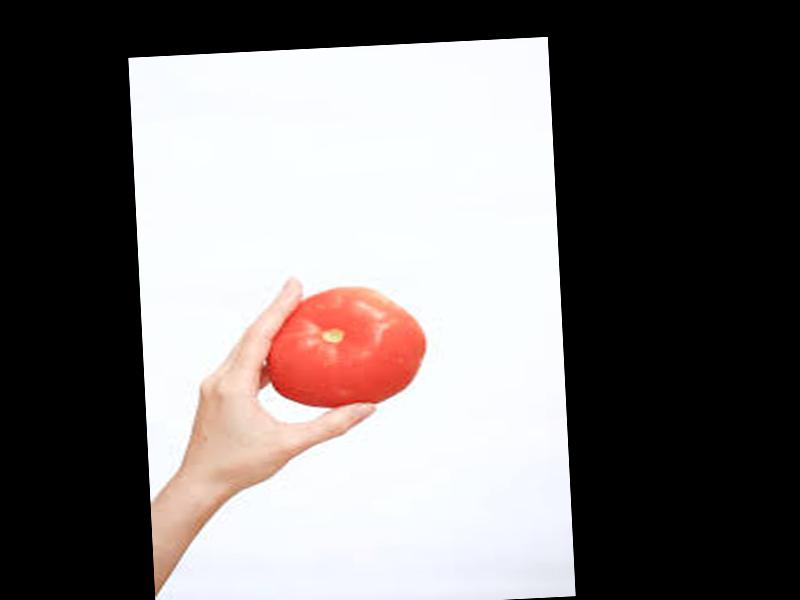Tomato: (267, 282, 428, 410)
